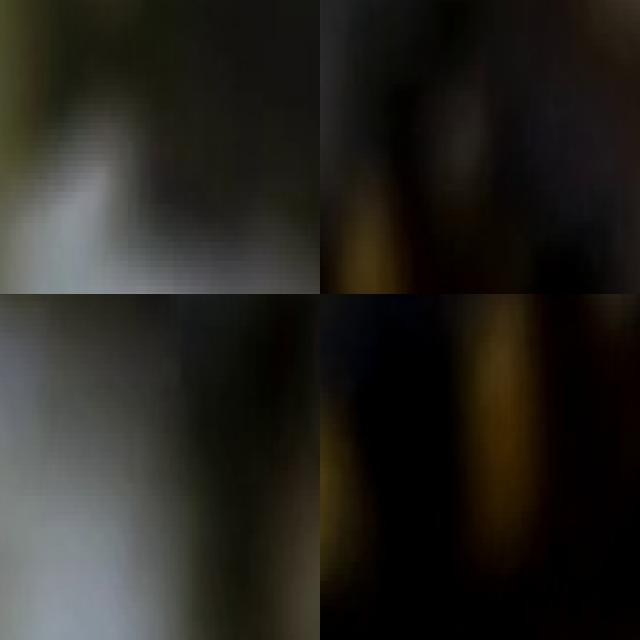fish: (320, 294, 640, 640), (0, 0, 320, 294), (320, 0, 640, 294)
